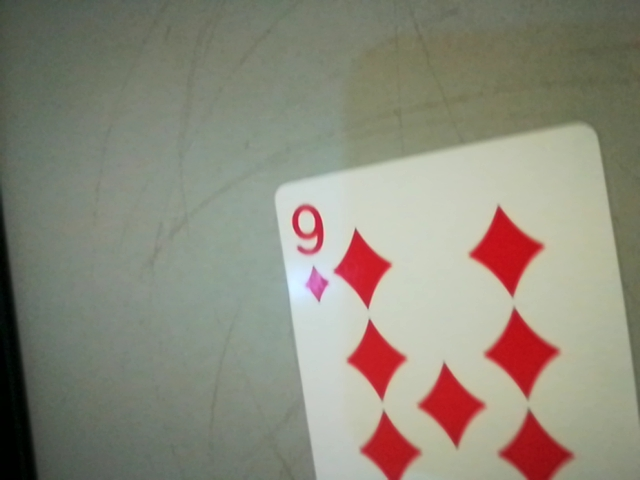fk 9: (276, 193, 339, 307)
